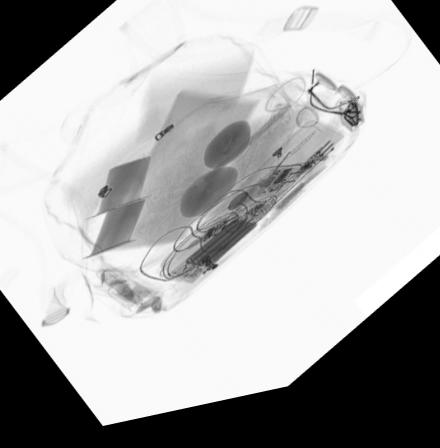Powerbank: (183, 225, 259, 280)
